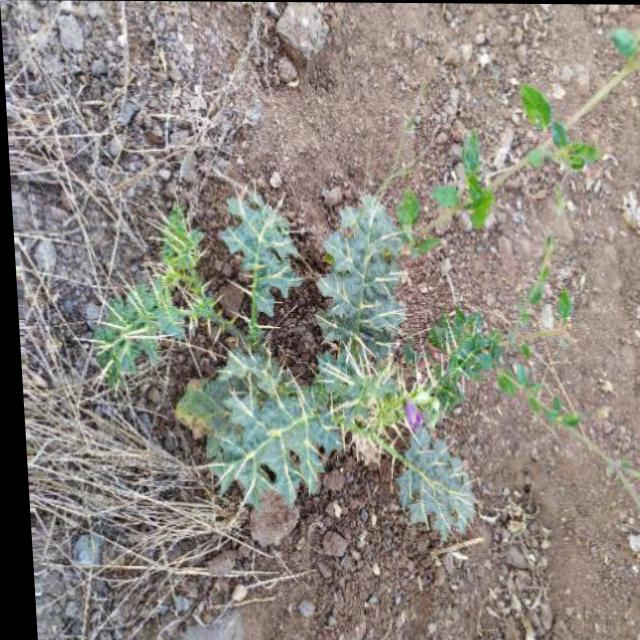weed: (92, 184, 477, 535)
